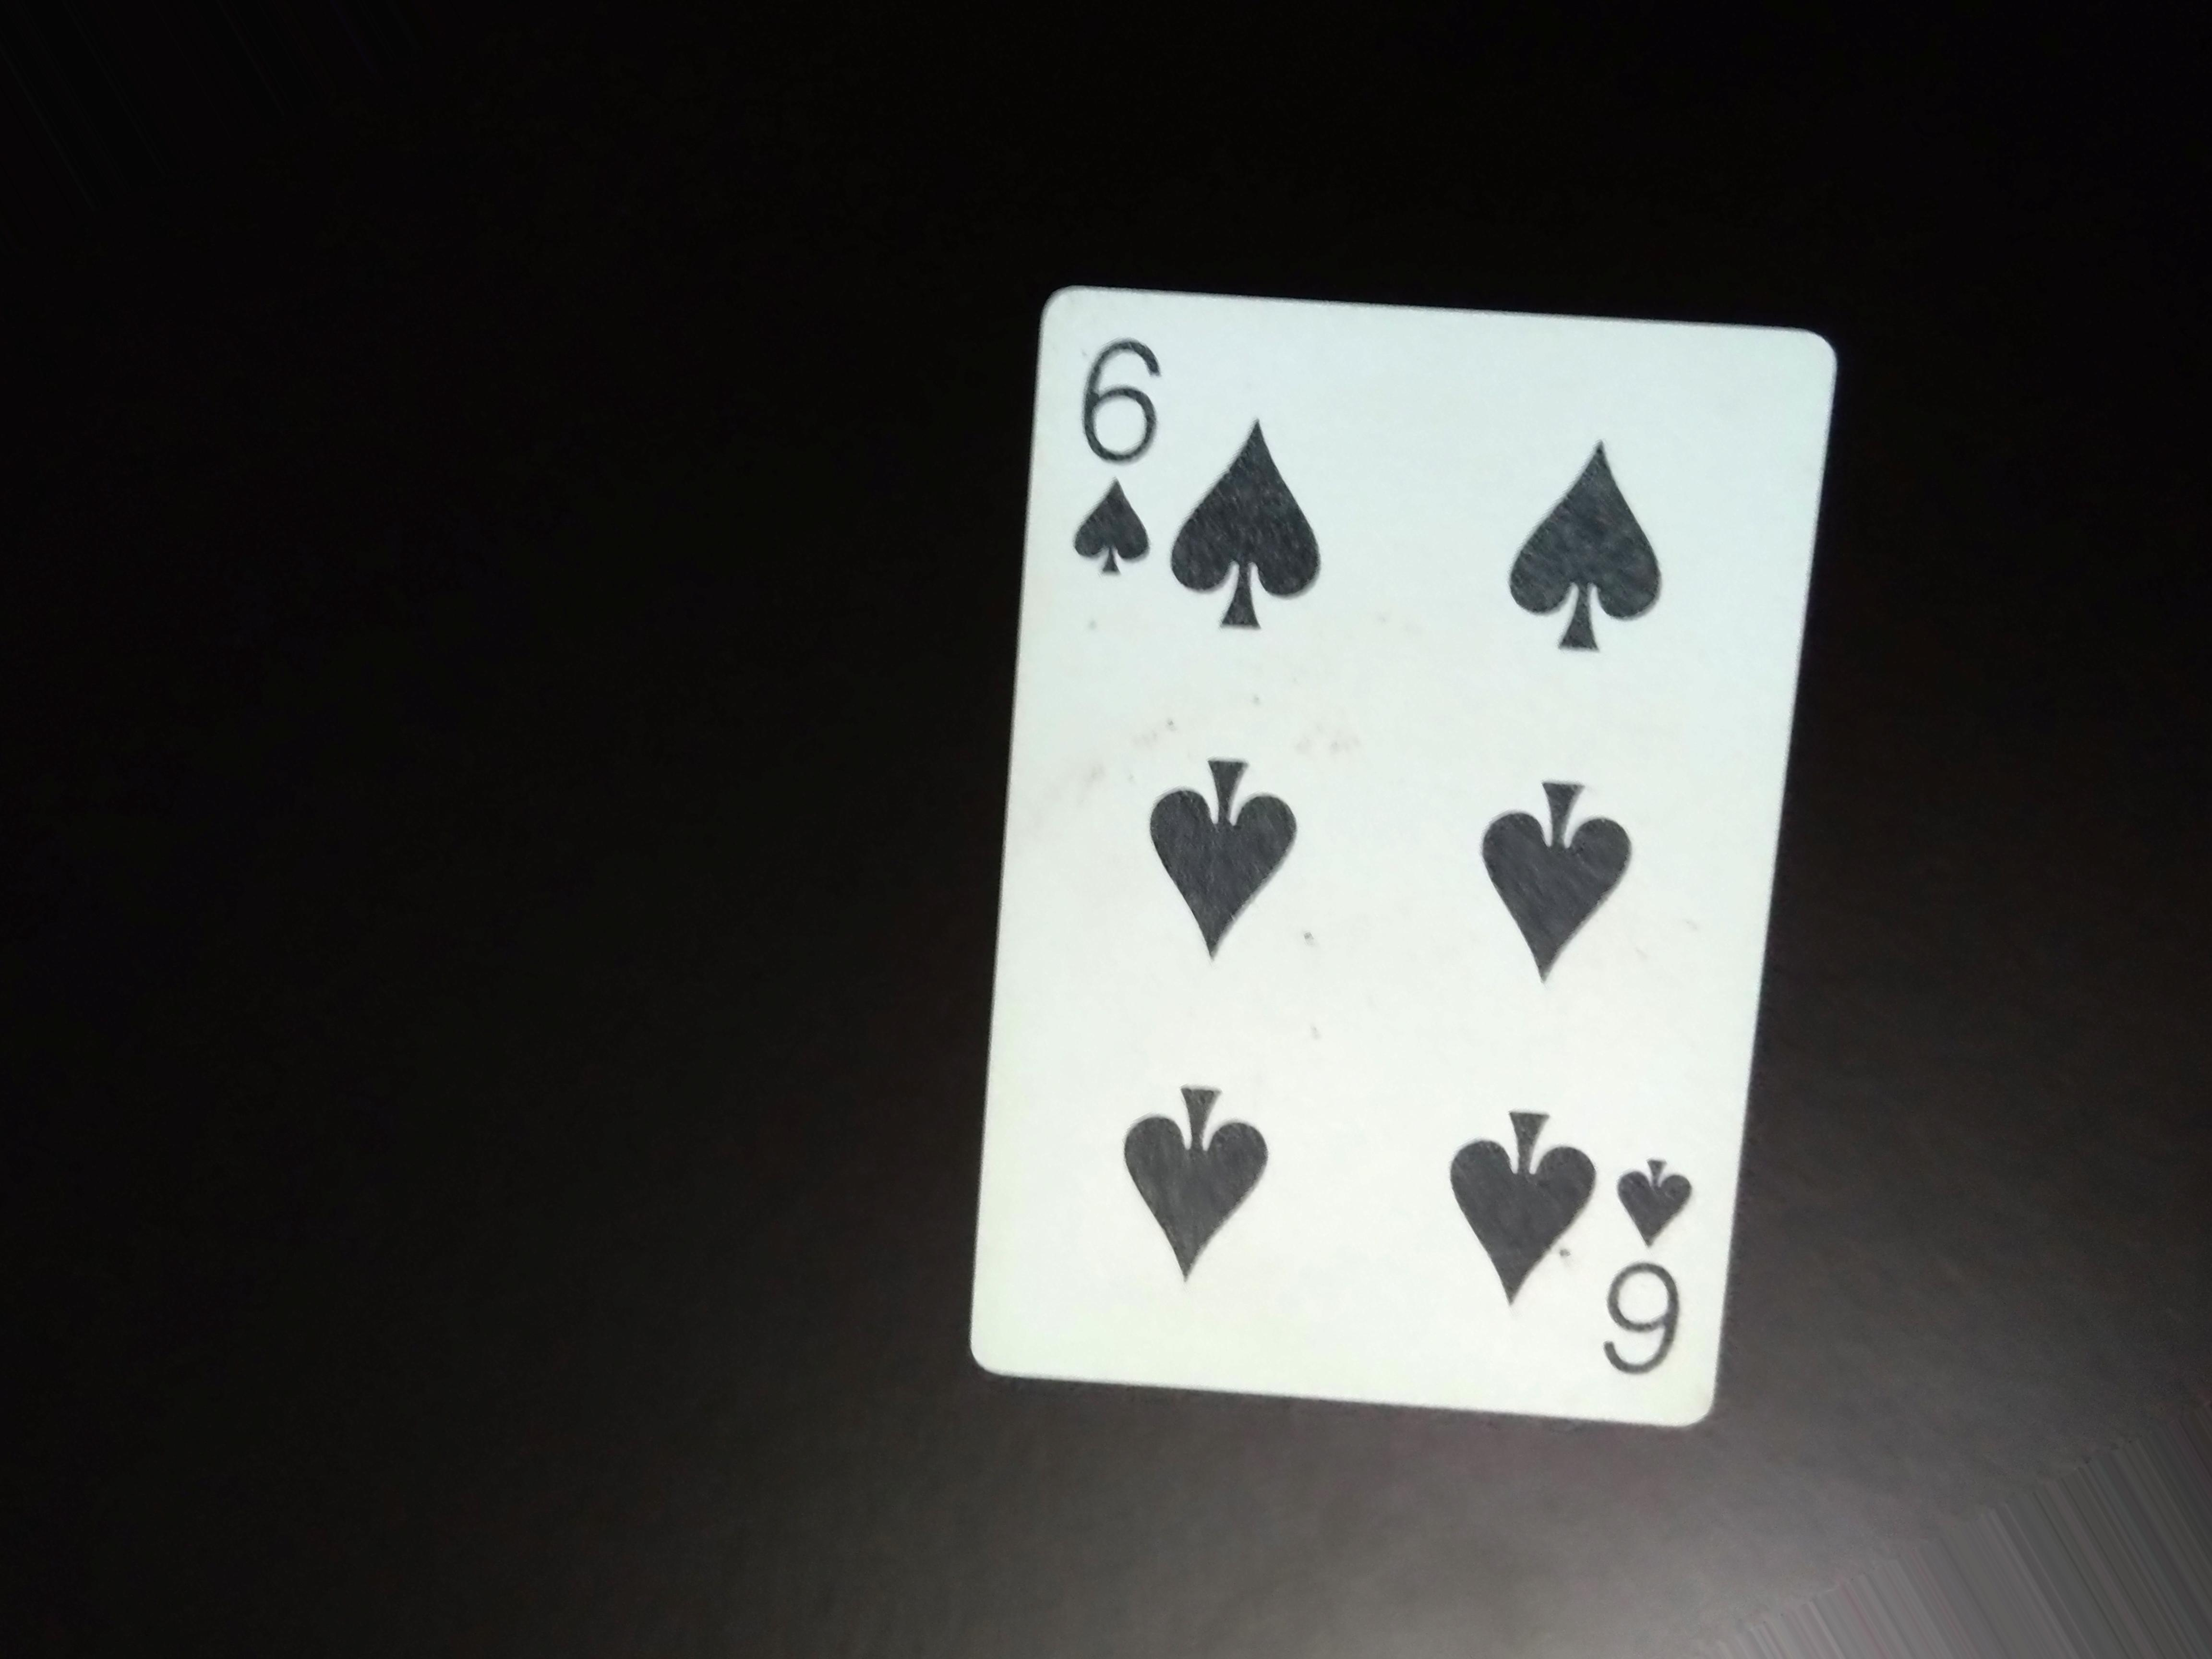6S: (1069, 319, 1179, 589)
